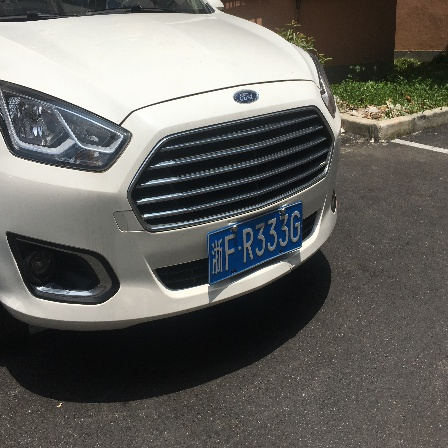plate: (203, 210, 313, 274)
